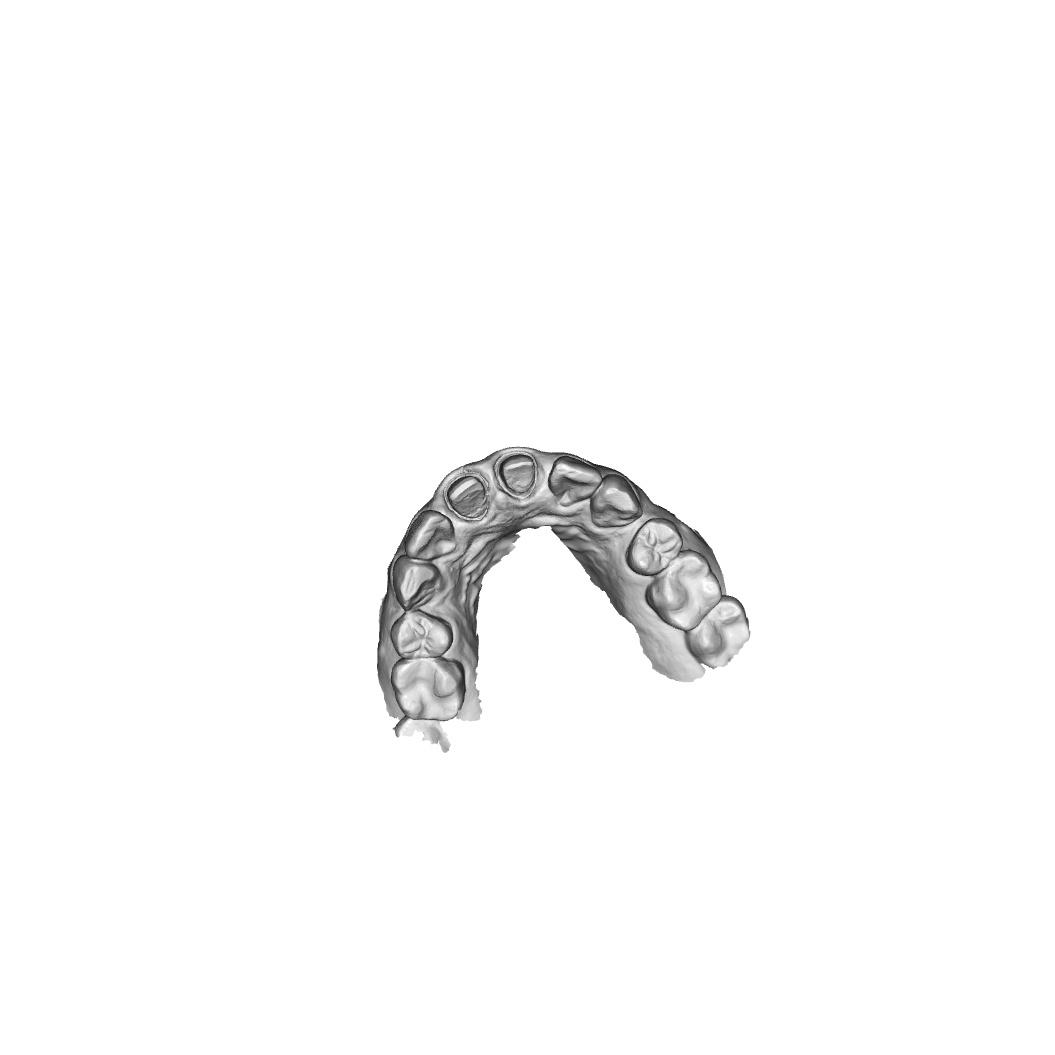canine: (589, 474, 644, 530), (392, 554, 441, 612)
crown: (442, 471, 489, 522), (493, 451, 538, 500)
incisor: (547, 454, 603, 507), (403, 509, 457, 561)
molar: (645, 549, 723, 632), (684, 594, 751, 670), (389, 656, 466, 722)
premolar: (624, 517, 684, 576), (389, 609, 454, 660)
